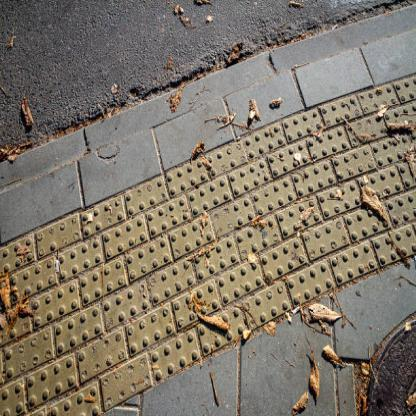podotacti: (1, 71, 415, 416)
